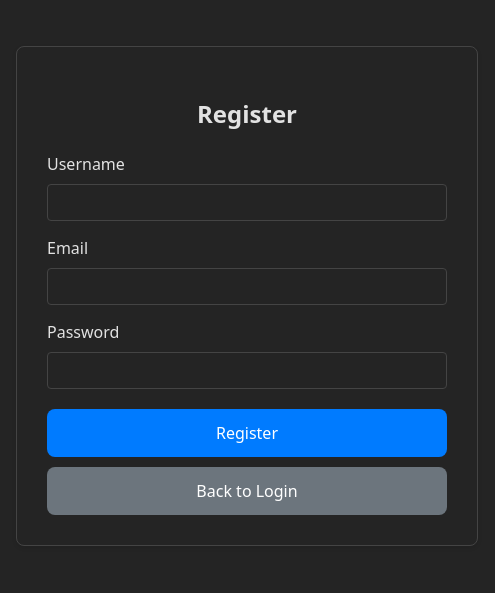
Test: RegisterPage › clears error message when user starts typing after an error
In the field labelled "Username": (247, 203) [47,184,447,222], type "testuser"
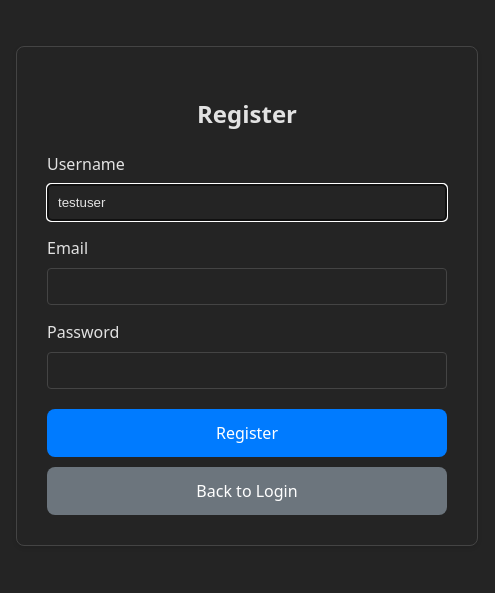
In the field labelled "Email": (247, 287) [47,268,447,306], type "test@example.com"
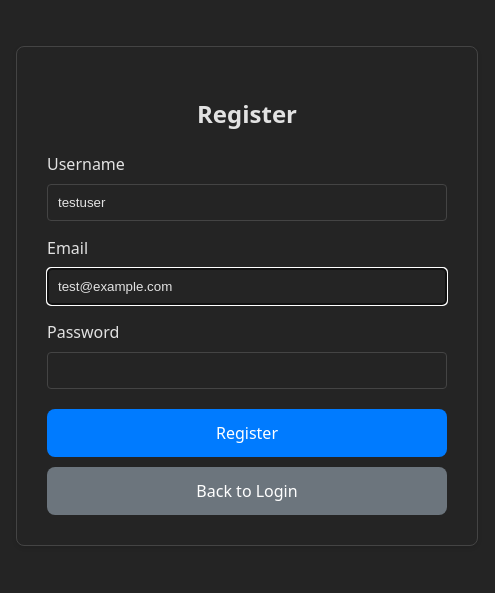
In the password field labelled "Password": (247, 371) [47,352,447,390], type "password123"
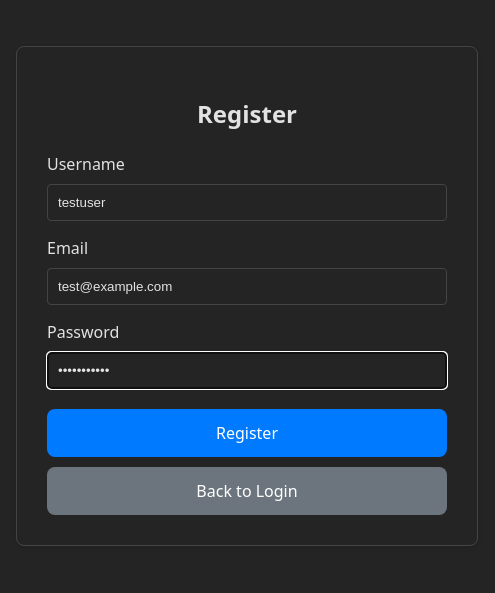
Click the button "Register": click(247, 434) [47,410,447,458]
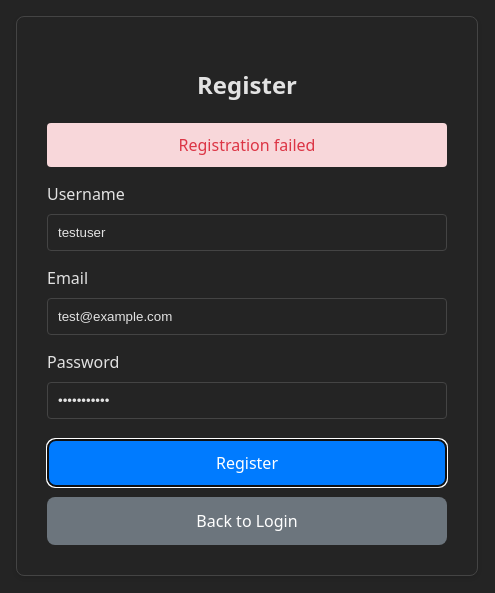
Result: the text "Registration failed" is shown at [47,123,447,167]
Replace the text in the field labelled "Username" with "newuser": (247, 232) [47,214,447,251]
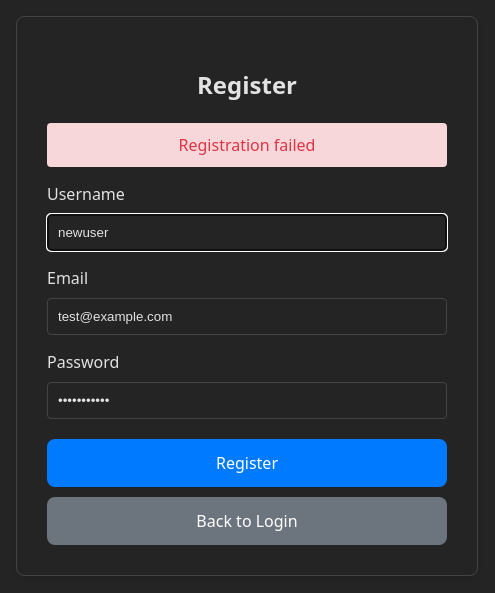
Click the button "Register": click(247, 463) [47,439,447,487]
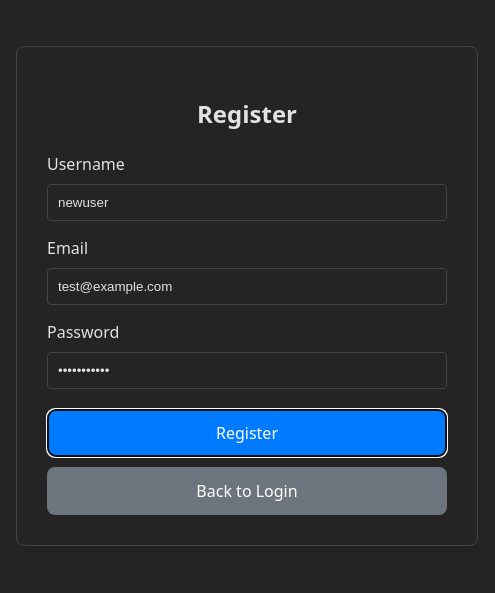
Result: the text "Registration failed" is gone
